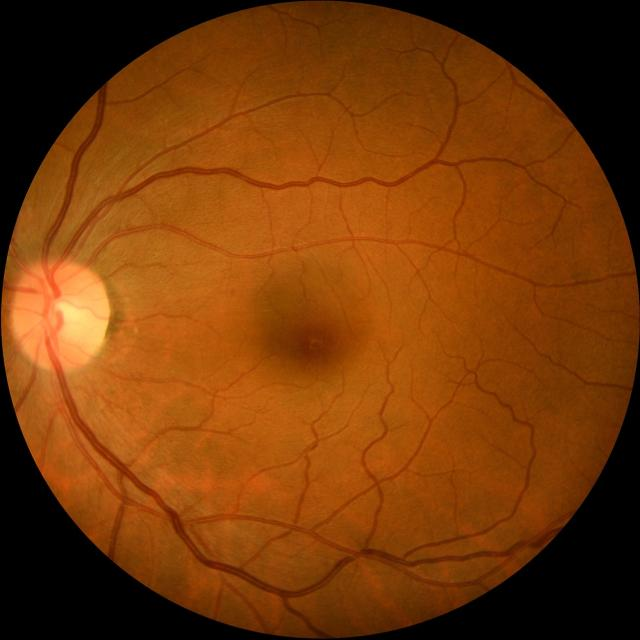OC: (48, 298, 87, 334)
OD: (12, 260, 107, 370)
